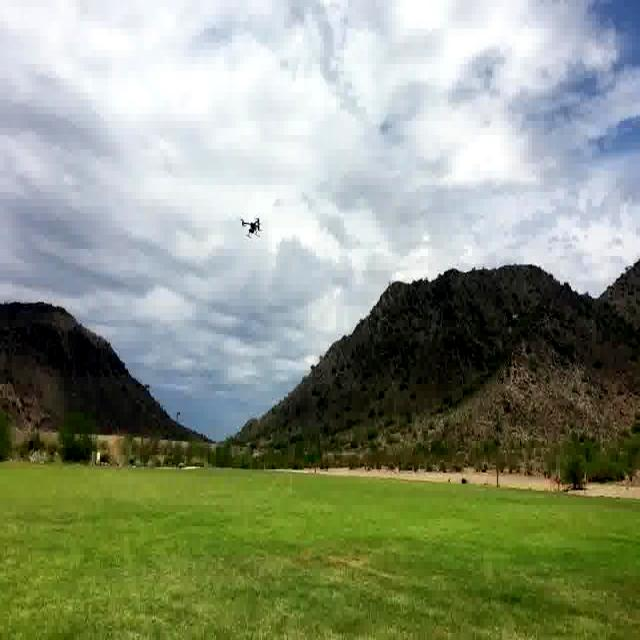drone: (240, 217, 264, 240)
